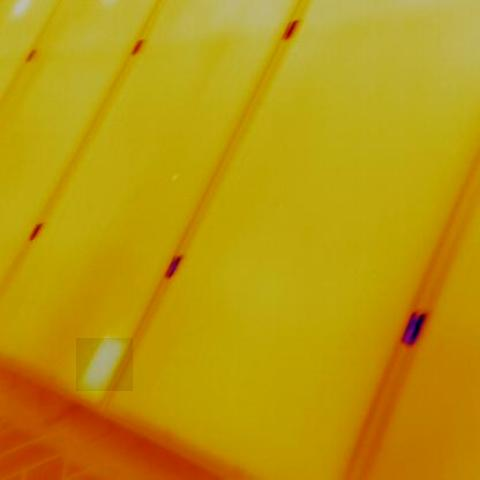fault: (76, 338, 133, 391)
